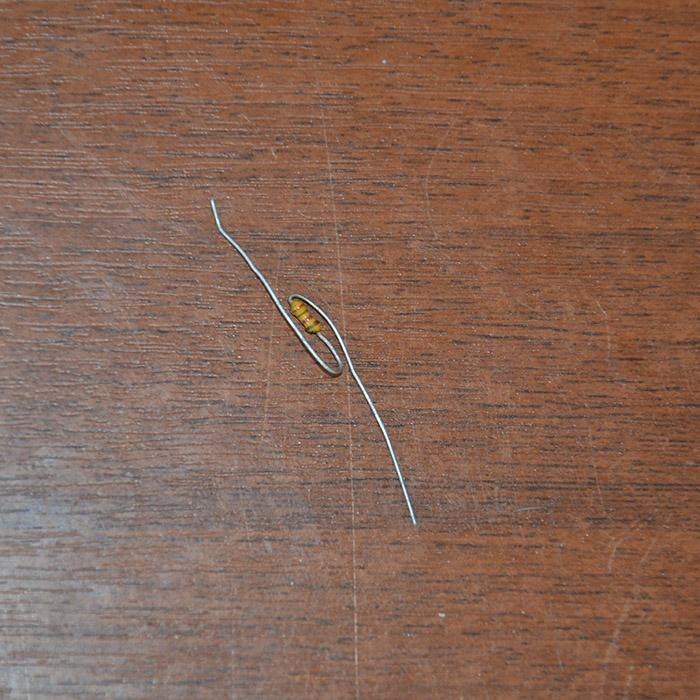resistor: (288, 298, 321, 335)
